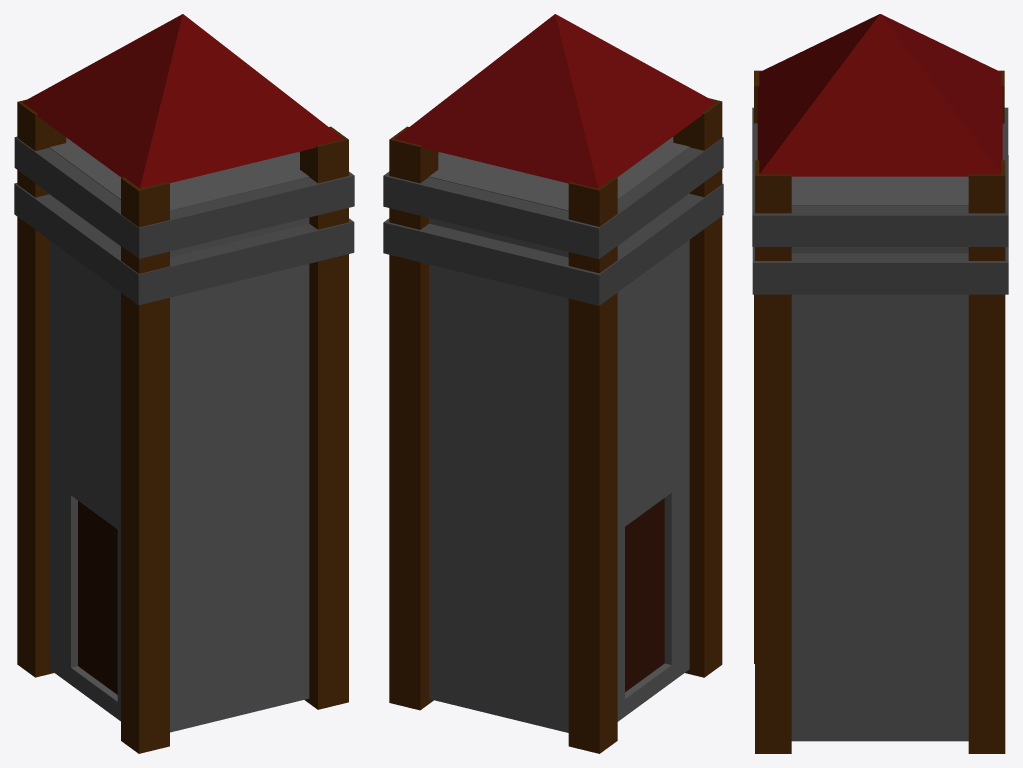
The model's file is Tower.fbx.
3 renders of one model, left to right at view 1: azimuth 30°, elevation 25°; view 2: azimuth 150°, elevation 25°; view 3: azimuth 270°, elevation 25°, orthographic. The views are drawn at different scales.
Visible parts, largest first — view 1: Cube, Cube.005, Cube.004, Cube.003, Cube.001, Cube.006, Cube.007; view 2: Cube, Cube.005, Cube.001, Cube.002, Cube.004, Cube.007, Cube.006; view 3: Cube, Cube.005, Cube.002, Cube.003, Cube.006, Cube.007, Cube.004.
Boxes of the visible parts, x1=… form: Cube: x1=49, y1=137, x2=309, y2=732; Cube.005: x1=22, y1=14, x2=343, y2=188; Cube.004: x1=121, y1=177, x2=169, y2=753; Cube.003: x1=300, y1=126, x2=348, y2=709; Cube.001: x1=17, y1=99, x2=66, y2=677; Cube.006: x1=14, y1=136, x2=354, y2=258; Cube.007: x1=14, y1=183, x2=354, y2=305; Cube: x1=429, y1=137, x2=689, y2=732; Cube.005: x1=394, y1=14, x2=715, y2=188; Cube.001: x1=568, y1=177, x2=617, y2=753; Cube.002: x1=389, y1=126, x2=438, y2=710; Cube.004: x1=673, y1=98, x2=722, y2=677; Cube.007: x1=383, y1=183, x2=723, y2=305; Cube.006: x1=383, y1=137, x2=723, y2=258; Cube: x1=791, y1=176, x2=968, y2=741; Cube.005: x1=757, y1=14, x2=1002, y2=176; Cube.002: x1=968, y1=160, x2=1005, y2=753; Cube.003: x1=755, y1=160, x2=791, y2=753; Cube.006: x1=752, y1=107, x2=1008, y2=246; Cube.007: x1=752, y1=155, x2=1008, y2=294; Cube.004: x1=754, y1=70, x2=761, y2=663.
Size of the model in its own units: 736 by 2178 by 736.
